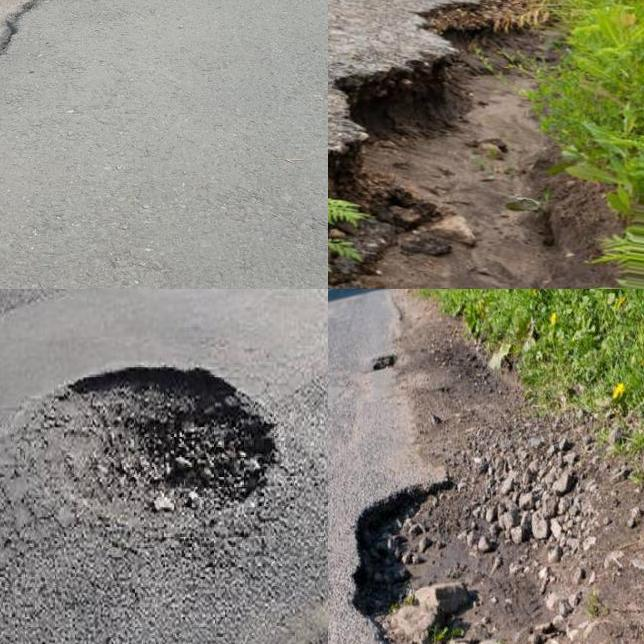Lubang: (46, 362, 270, 522)
Pinggir: (328, 0, 542, 289), (328, 476, 572, 644)
